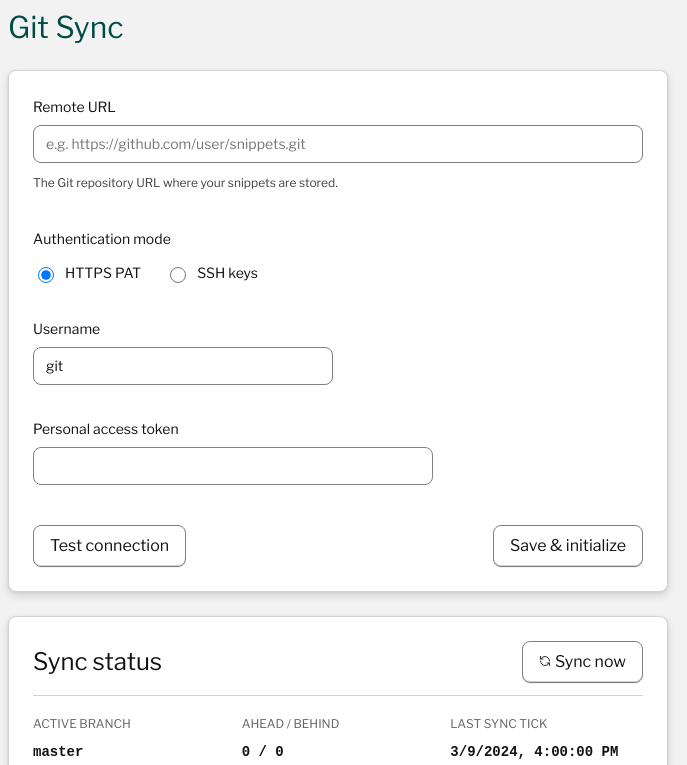
SyncPanel › non-https remote for https auth shows inline error
This screenshot has width=687, height=765.
Type "http://example.com/repo.git" into the field labelled "Remote URL" at (338, 144), box x1=33 y1=125 x2=643 y2=163
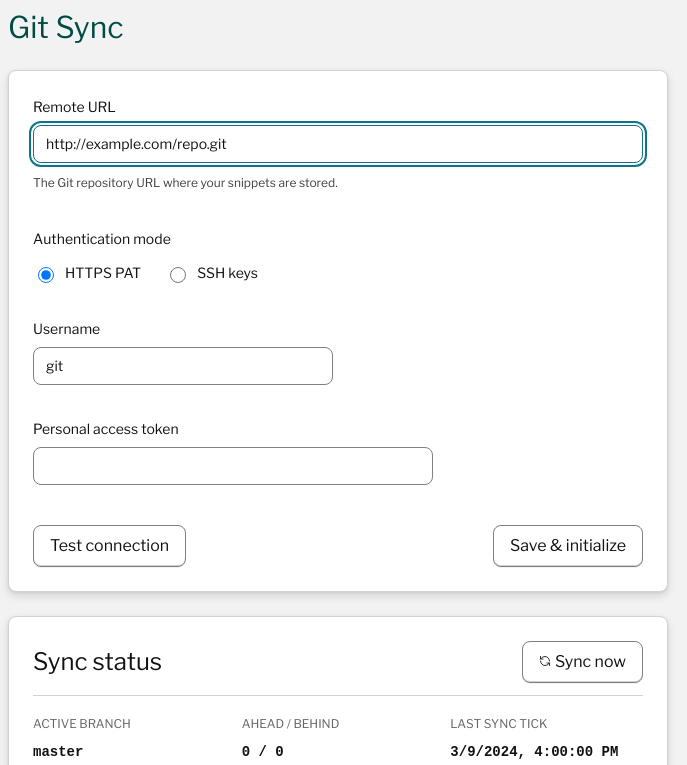
Type "pat-123" into the password field labelled "Personal access token" at (233, 466), box x1=33 y1=447 x2=433 y2=485
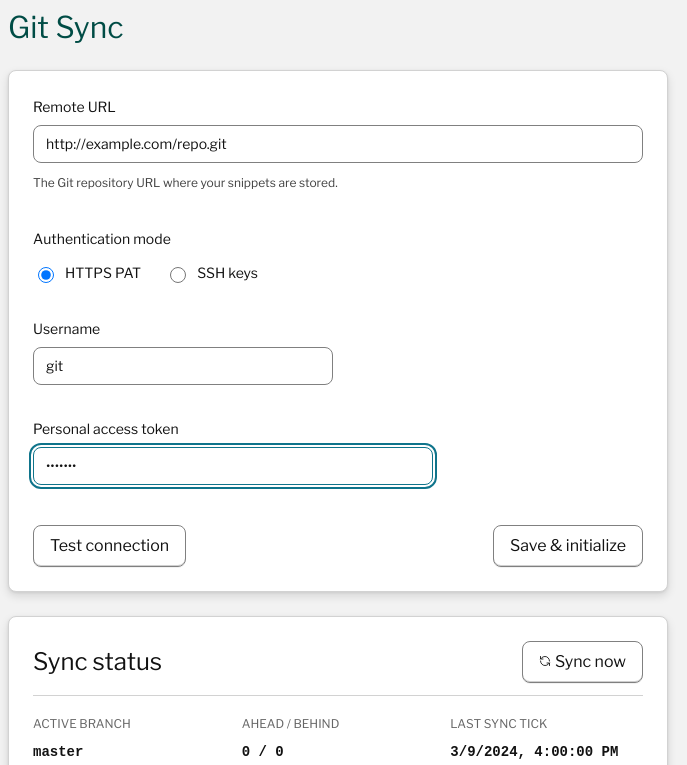
Click the button "Save & initialize" at (568, 546), box x1=493 y1=525 x2=643 y2=567
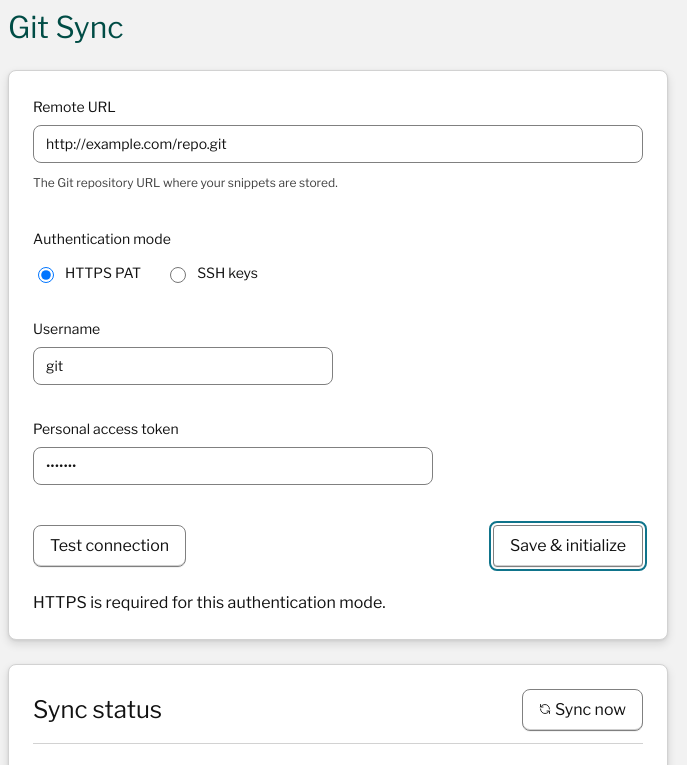
Check: the text "HTTPS is required for this authentication mode." is shown, box x1=33 y1=591 x2=386 y2=615
